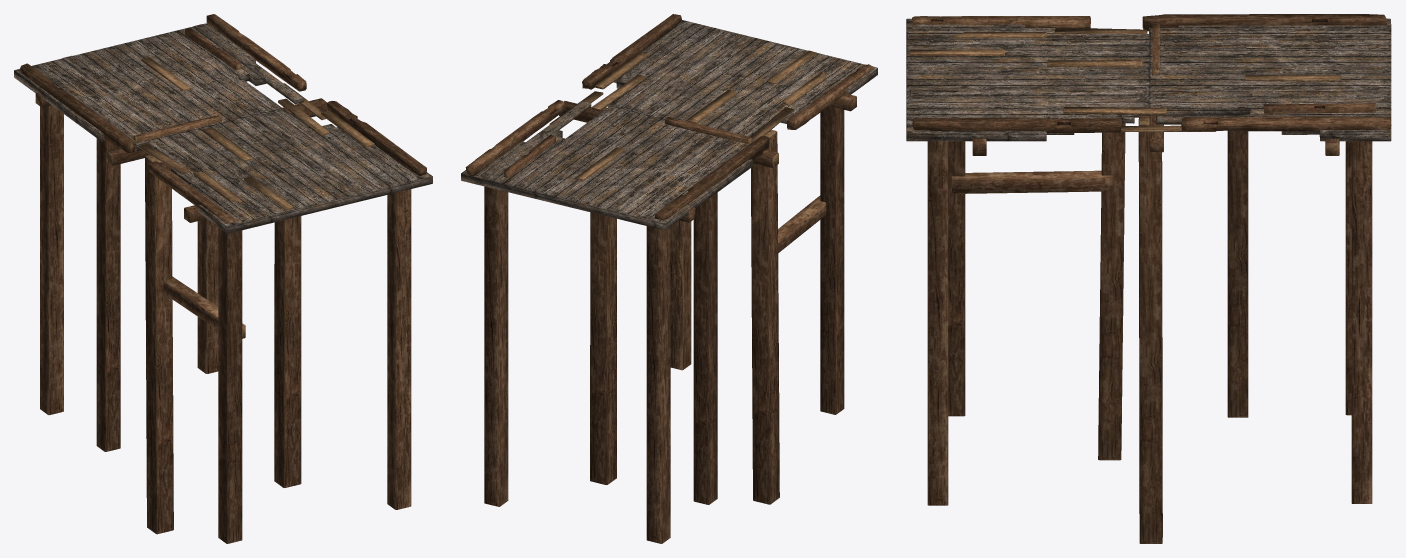
The model's file is o_mdl_env_buildingDockWoodStraightB_c-transformed.glb.
The picture shows the model from 3 angles, left to right: view 1: azimuth 30°, elevation 25°; view 2: azimuth 150°, elevation 25°; view 3: azimuth 270°, elevation 25°; orthographic projection. The views are drawn at different scales.
Visible parts, largest first — view 1: default; view 2: default; view 3: default.
Part boxes in pixels (bbox=[...]): default: bbox=[14, 14, 432, 543]; default: bbox=[461, 14, 877, 543]; default: bbox=[906, 14, 1391, 543].
Bounding box in the file's own units: 6.02 × 9.91 × 9.98.
Materials: 2 (2 with a texture image).
